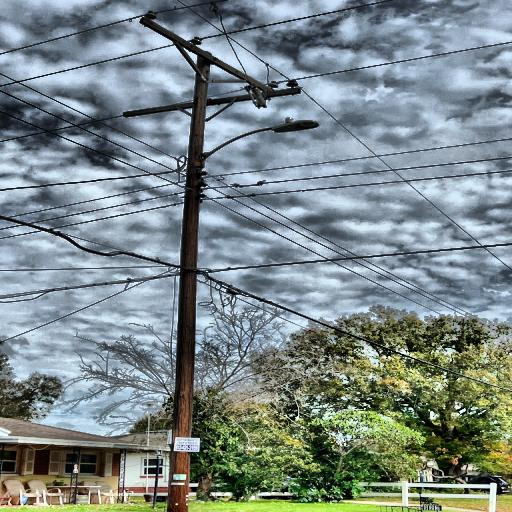insulator: (143, 8, 160, 22), (286, 78, 303, 88), (189, 35, 205, 45), (267, 78, 282, 88)
pole: (152, 44, 223, 512)
street light: (194, 116, 320, 171)
